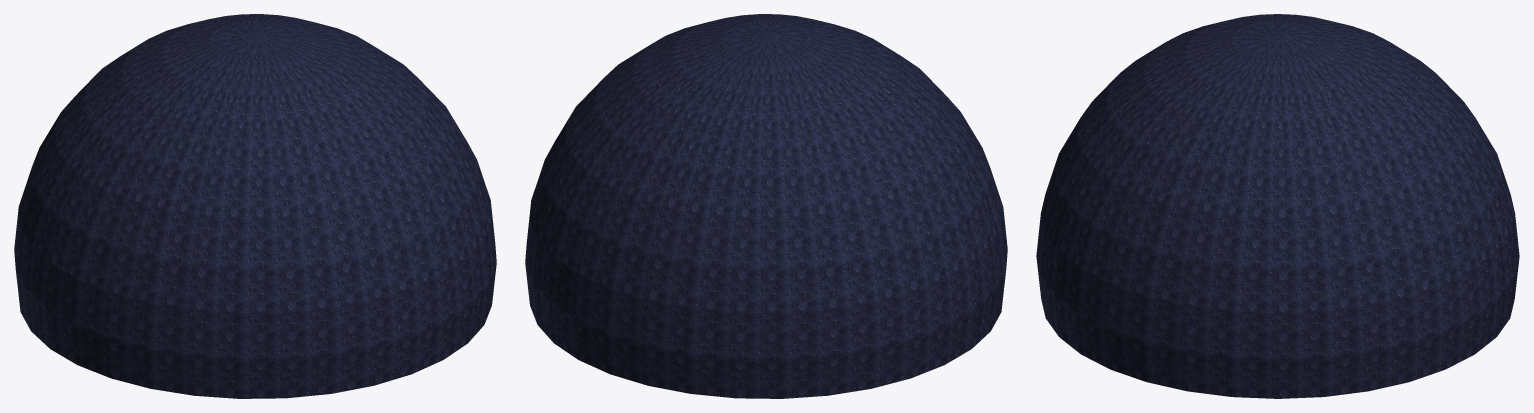
Rendered from panorama_hoz.obj.
3 renders of one model, left to right at view 1: azimuth 30°, elevation 25°; view 2: azimuth 150°, elevation 25°; view 3: azimuth 270°, elevation 25°, orthographic.
Visible parts, largest first — view 1: panorama_hoz; view 2: panorama_hoz; view 3: panorama_hoz.
Boxes of the visible parts, x1,y1,x2,y2 form: panorama_hoz: (14,14,496,398); panorama_hoz: (525,14,1007,398); panorama_hoz: (1036,14,1519,398).
Bounding box in the file's own units: 760 × 455 × 760.
Materials: 2 (2 with a texture image).
